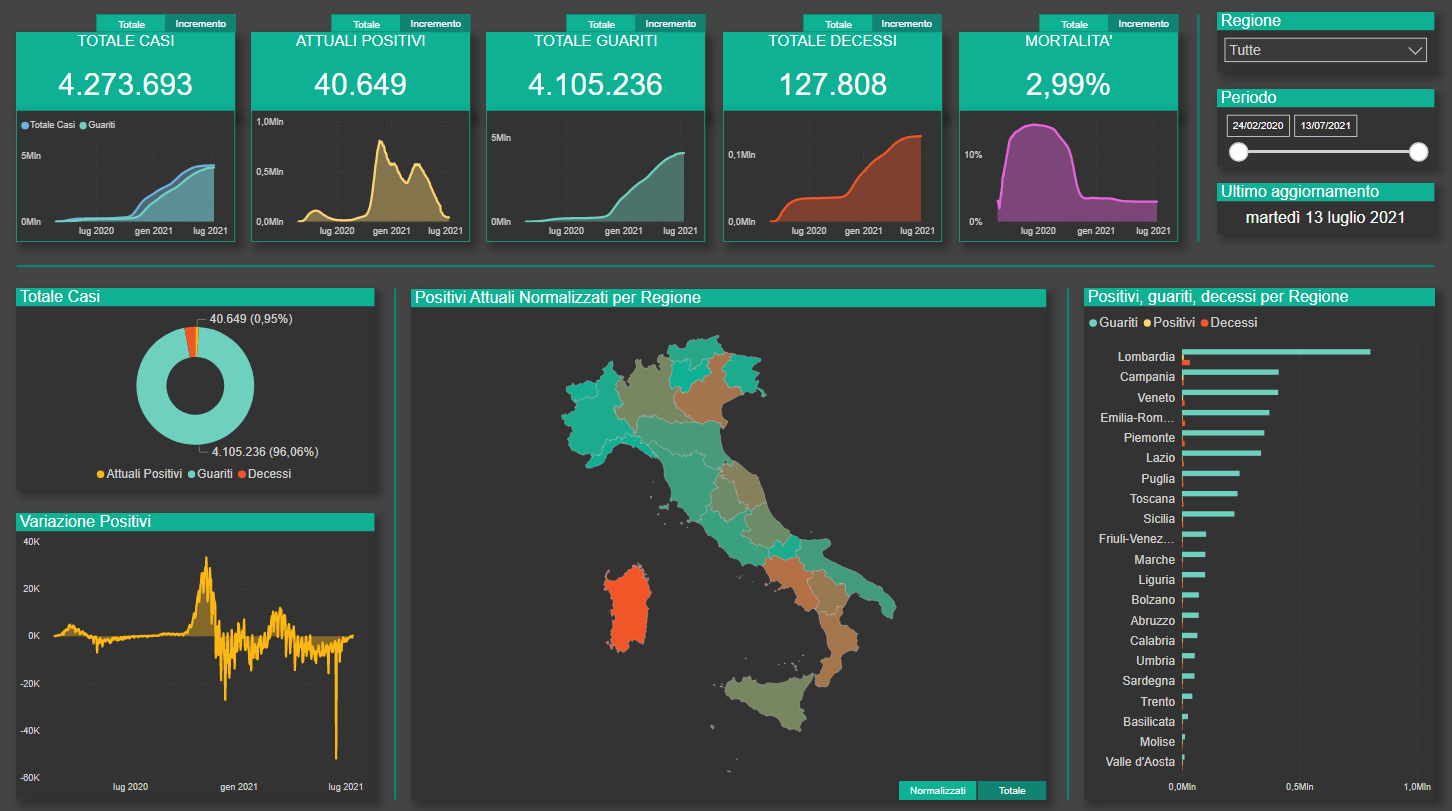

Layout of this report page (visuals, bound fields, positions):
{"tool":"powerbi","page":{"name":"Main Dashboard","canvas":[1920,1080],"ordinal":0},"visuals":[{"type":"slicer","title":"Periodo","fields":{"Values":["Data.data"]},"box":[1607.4,122.9,286.9,101.8],"z":0},{"type":"slicer","title":"Regione","fields":{"Values":["Popolazione.denominazione_regione"]},"box":[1607.4,21.2,286.9,78],"z":1000},{"type":"donutChart","title":"Totale Casi","fields":{"Y":["Trends Regioni.__attuali_positivi","Trends Regioni.__dimessi_guariti","Trends Regioni.__totale_decessi"]},"box":[23.8,384.7,473.2,265.7],"z":2000},{"type":"basicShape","box":[14.5,339.7,1890.3,31.7],"z":3000},{"type":"basicShape","box":[515.5,375.4,15.9,694],"z":4000},{"type":"basicShape","box":[1395.9,375.4,29.1,694],"z":5000},{"type":"basicShape","box":[1567.8,14.5,30.4,318.6],"z":6000},{"type":"areaChart","title":"Variazione Positivi","fields":{"Category":["Data.data.Variazione.Date Hierarchy.Year"],"Y":["Sum(Trends Regioni.variazione_totale_positivi)"]},"box":[23.8,682.1,473.2,376.7],"z":7000},{"type":"shapeMap","fields":{"Value":["Trends Regioni.__attuali_positivi"],"Category":["Popolazione.denominazione_regione"]},"box":[544.6,384.7,838.1,674.2],"z":8000},{"type":"card","title":"Ultimo aggiornamento","fields":{"Values":["Max(Data.data)"]},"box":[1607.4,247.2,286.9,67.4],"z":9000},{"type":"clusteredBarChart","title":"Positivi, guariti, decessi per Regione","fields":{"Category":["Popolazione.denominazione_regione"],"Y":["Trends Regioni.__dimessi_guariti","Trends Regioni.__attuali_positivi","Trends Regioni.__totale_decessi"]},"box":[1431.6,384.7,462.7,674.2],"z":10000},{"type":"card","title":"MORTALITA''","fields":{"Values":["Trends Regioni.__tasso_mortalità"]},"box":[1267.7,47.6,289.5,111],"z":11000},{"type":"areaChart","fields":{"Category":["Data.data.Variazione.Date Hierarchy.Year"],"Y":["Trends Regioni.__tasso_mortalità"]},"box":[1267.7,150.7,289.5,174.5],"z":12000},{"type":"actionButton","box":[1465.2,23.5,92,24.5],"z":16000},{"type":"actionButton","box":[1373.2,23.5,92,24.5],"z":17000},{"type":"card","title":"TOTALE DECESSI","fields":{"Values":["Trends Regioni.__attuale_totale_decessi"]},"box":[955.4,47.6,289.5,111],"z":18000},{"type":"areaChart","fields":{"Category":["Data.data.Variazione.Date Hierarchy.Year"],"Y":["Trends Regioni.__attuale_totale_decessi"]},"box":[955.4,150.7,289.5,174.5],"z":19000},{"type":"actionButton","box":[1152.9,23.5,92,24.5],"z":23000},{"type":"actionButton","box":[1060.9,23.5,92,24.5],"z":24000},{"type":"card","title":"TOTALE GUARITI","fields":{"Values":["Trends Regioni.__attuale_dimessi_guariti"]},"box":[643.4,47.6,289.5,111],"z":25000},{"type":"areaChart","fields":{"Category":["Data.data.Variazione.Date Hierarchy.Year"],"Y":["Trends Regioni.__attuale_dimessi_guariti"]},"box":[643.4,150.7,289.5,174.5],"z":26000},{"type":"actionButton","box":[840.9,23.5,92,24.5],"z":30000},{"type":"actionButton","box":[748.9,23.5,92,24.5],"z":31000},{"type":"card","title":"ATTUALI POSITIVI","fields":{"Values":["Trends Regioni.__attuale_positivi"]},"box":[333.5,47.6,289.5,111],"z":32000},{"type":"areaChart","fields":{"Category":["Data.data.Variazione.Date Hierarchy.Year"],"Y":["Trends Regioni.__attuale_positivi"]},"box":[333.1,150.7,289.5,174.5],"z":33000},{"type":"actionButton","box":[530.9,23.5,92,24.5],"z":37000},{"type":"actionButton","box":[438.9,23.5,92,24.5],"z":38000},{"type":"card","title":"TOTALE CASI","fields":{"Values":["Trends Regioni.__attuale_totale_casi"]},"box":[24.3,47.6,289.5,111],"z":39000},{"type":"areaChart","fields":{"Category":["Data.data.Variazione.Date Hierarchy.Year"],"Y":["Trends Regioni.__totale_casi2","Trends Regioni.__attuale_dimessi_guariti"]},"box":[23.8,150.7,289.5,174.5],"z":45000},{"type":"actionButton","box":[221.6,23.5,92,24.5],"z":47000},{"type":"actionButton","box":[221.8,23.5,92,24.5],"z":49000},{"type":"actionButton","box":[129.8,23.5,92,24.5],"z":50000},{"type":"actionButton","box":[1291.7,1034.9,91.4,25.3],"z":51000},{"type":"actionButton","box":[1188.4,1035.1,103.1,25.1],"z":52000}]}

Visuals, with their boxes in screenshot pixels (x1, y1, x2, y2), scaled from the page's 1920x1080 canvas onto the 1452x811 screenshot:
"Periodo" slicer: 1216:92:1433:169
"Regione" slicer: 1216:16:1433:74
"Totale Casi" donutChart: 18:289:376:488
basicShape: 11:255:1441:279
basicShape: 390:282:402:803
basicShape: 1056:282:1078:803
basicShape: 1186:11:1209:250
"Variazione Positivi" areaChart: 18:512:376:795
shapeMap - Trends Regioni.__attuali_positivi x Popolazione.denominazione_regione: 412:289:1046:795
"Ultimo aggiornamento" card: 1216:186:1433:236
"Positivi, guariti, decessi per Regione" clusteredBarChart: 1083:289:1433:795
"MORTALITA''" card: 959:36:1178:119
areaChart - Data.data.Variazione.Date Hierarchy.Year x Trends Regioni.__tasso_mortalità: 959:113:1178:244
actionButton: 1108:18:1178:36
actionButton: 1038:18:1108:36
"TOTALE DECESSI" card: 723:36:941:119
areaChart - Data.data.Variazione.Date Hierarchy.Year x Trends Regioni.__attuale_totale_decessi: 723:113:941:244
actionButton: 872:18:941:36
actionButton: 802:18:872:36
"TOTALE GUARITI" card: 487:36:706:119
areaChart - Data.data.Variazione.Date Hierarchy.Year x Trends Regioni.__attuale_dimessi_guariti: 487:113:706:244
actionButton: 636:18:706:36
actionButton: 566:18:636:36
"ATTUALI POSITIVI" card: 252:36:471:119
areaChart - Data.data.Variazione.Date Hierarchy.Year x Trends Regioni.__attuale_positivi: 252:113:471:244
actionButton: 401:18:471:36
actionButton: 332:18:401:36
"TOTALE CASI" card: 18:36:237:119
areaChart - Data.data.Variazione.Date Hierarchy.Year x Trends Regioni.__totale_casi2: 18:113:237:244
actionButton: 168:18:237:36
actionButton: 168:18:237:36
actionButton: 98:18:168:36
actionButton: 977:777:1046:796
actionButton: 899:777:977:796
